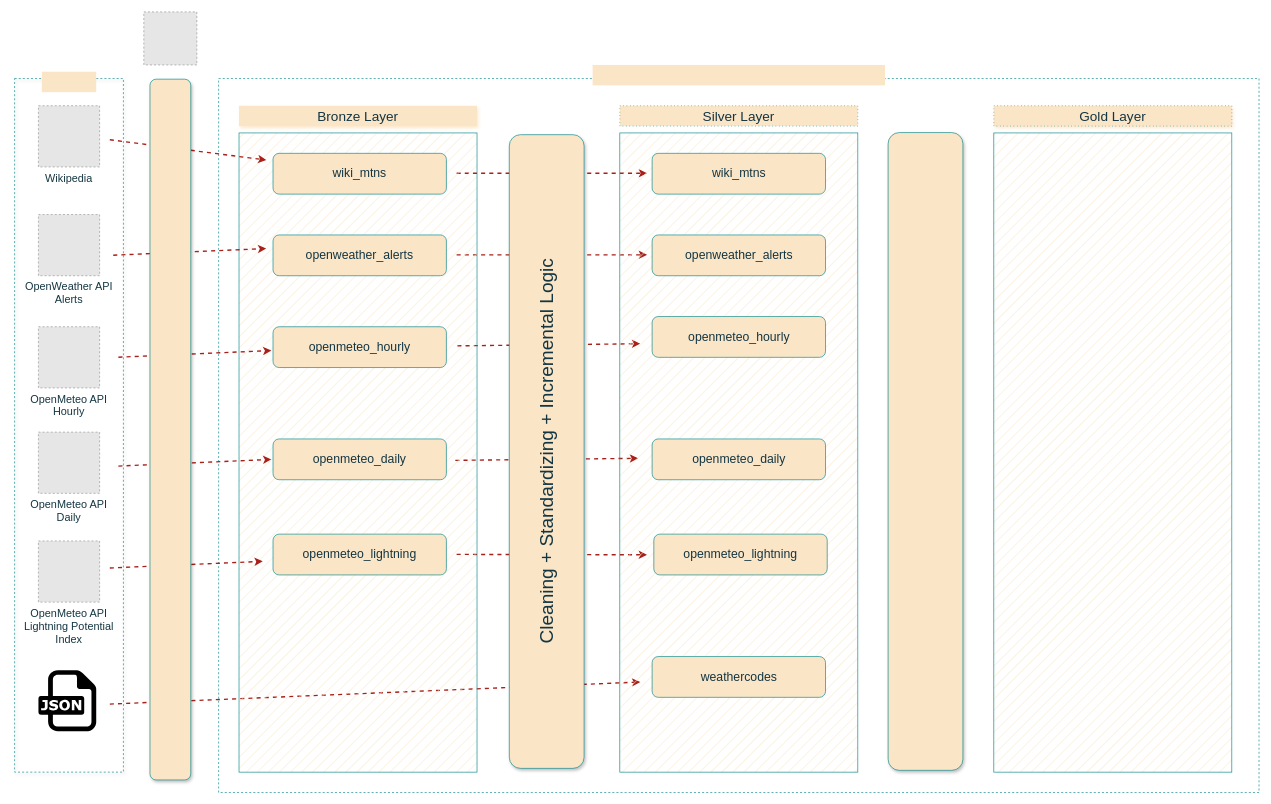
Image size: 1271x804. Some labels were removed from this diagram. Grey dashed boxes stand in for pictures. Here are the shapes that lost their labels. From the top down, the centre of each, then its label:
At point 68,81: "Sources".
At point 738,75: "Data Warehouse: utahmountains".
At point 170,430: "Extracting + Loading to SQL".
At point 925,452: "Research/Questions about my data".
At point 67,700: "descriptions.json".
